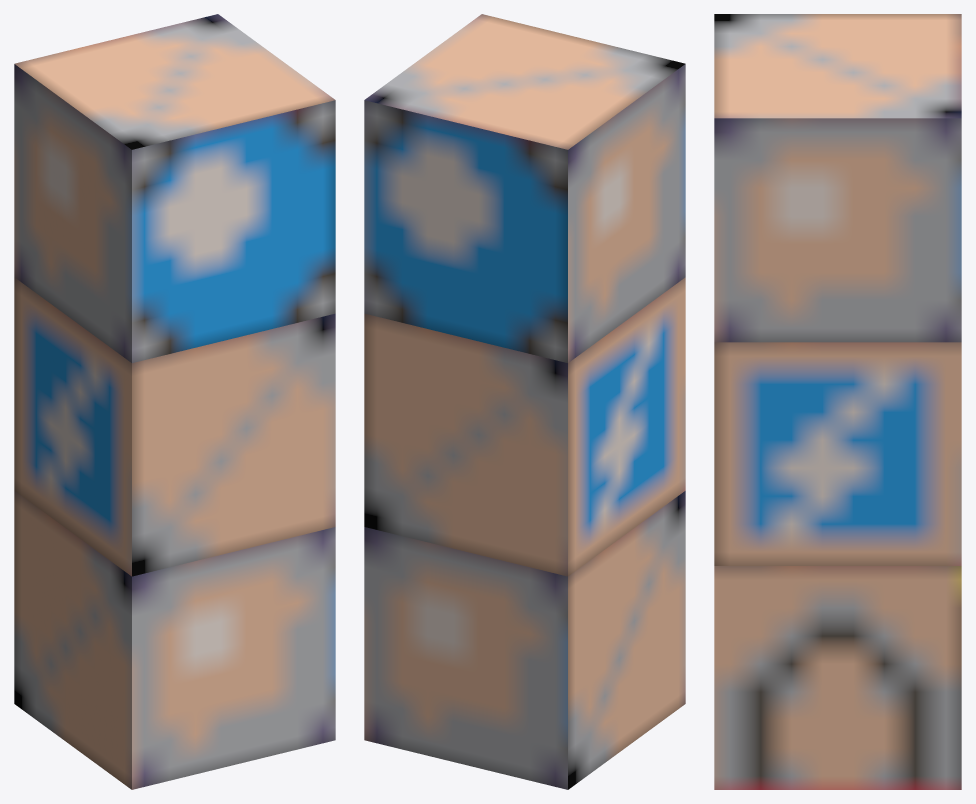
File: sstex1.obj
3 views of the same model, side by side, from view 1: azimuth 30°, elevation 25°; view 2: azimuth 150°, elevation 25°; view 3: azimuth 270°, elevation 25° (orthographic). The views are drawn at different scales.
Visible parts, largest first — view 1: sstex1; view 2: sstex1; view 3: sstex1.
Part boxes in pixels (x1=…): sstex1: x1=14, y1=14, x2=335, y2=789; sstex1: x1=364, y1=14, x2=685, y2=789; sstex1: x1=714, y1=14, x2=961, y2=789.
Size of the model in its own units: 1 by 3 by 1.
1 material, 1 textured.
